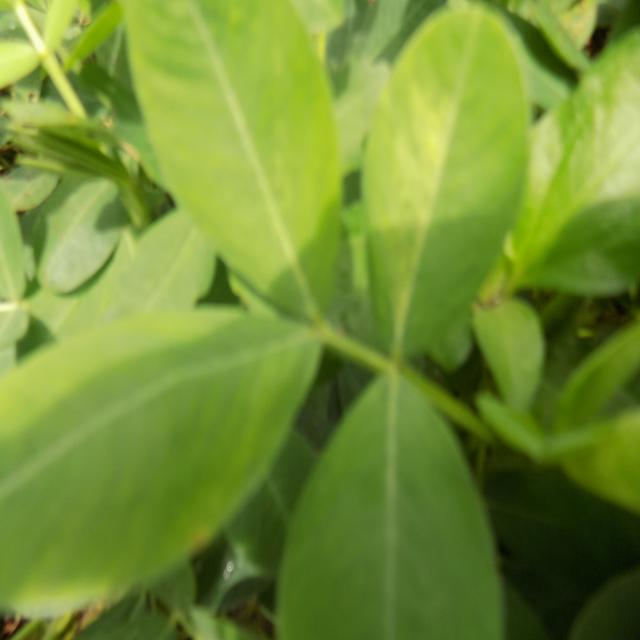Ground nut_healthy: (358, 0, 529, 360)
